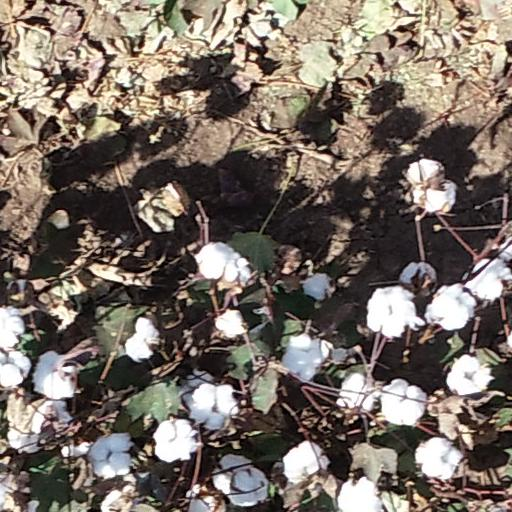Boll: (364, 284, 419, 333), (410, 160, 454, 210), (190, 384, 240, 427), (34, 353, 81, 398), (414, 435, 461, 479), (381, 379, 424, 426), (446, 354, 493, 396), (431, 286, 475, 328), (285, 337, 330, 378), (90, 435, 132, 478), (284, 443, 326, 484), (468, 259, 509, 300), (156, 419, 196, 458), (195, 240, 235, 277), (126, 317, 159, 361), (338, 478, 378, 512), (213, 454, 251, 489), (342, 371, 377, 409), (231, 468, 267, 504), (33, 402, 71, 435), (1, 351, 28, 385), (217, 310, 249, 337), (188, 489, 225, 512), (226, 256, 255, 285), (404, 263, 436, 289), (1, 310, 22, 348), (306, 273, 335, 298)
